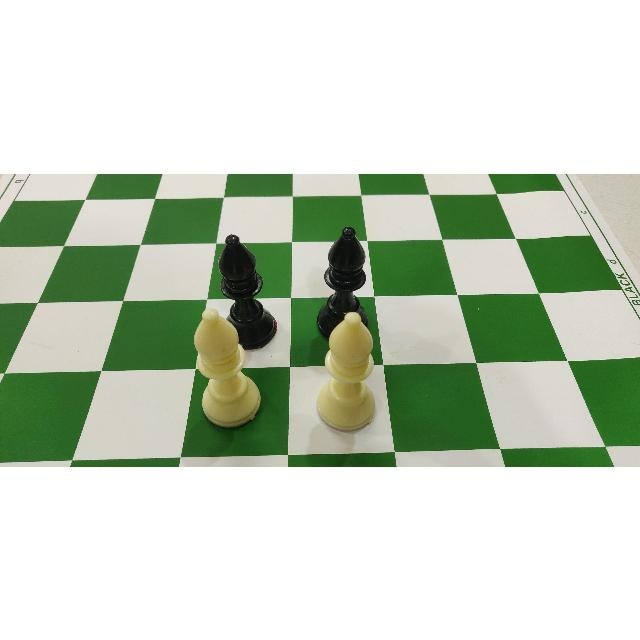black-bishop: (204, 230, 266, 303), (316, 221, 371, 301)
white-bishop: (184, 309, 256, 431), (314, 303, 366, 432)
